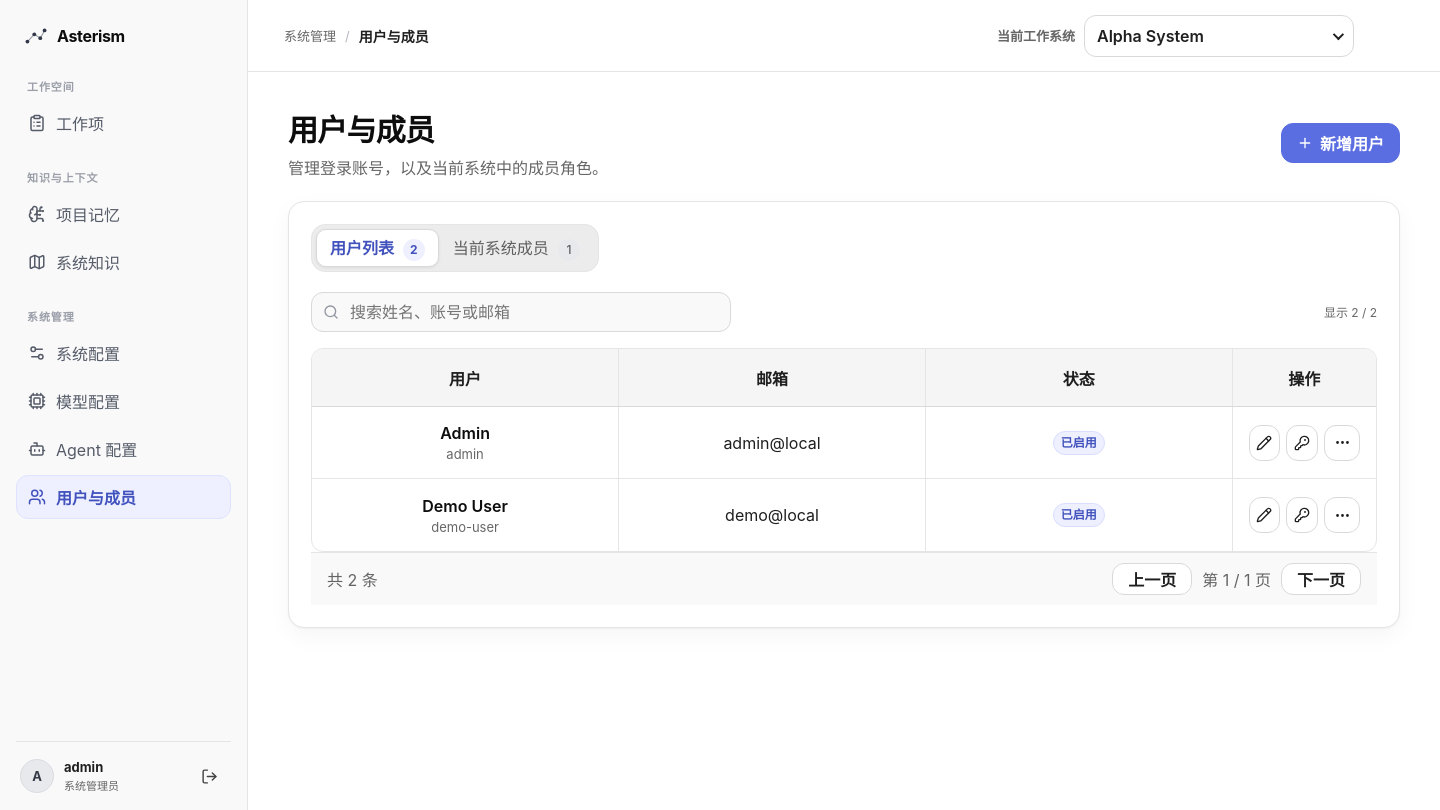
Test case: /users keeps the list first and opens 新增用户 in a dialog
The image size is (1440, 810).
Click the button "新增用户" at (1340, 143), box [1281,123,1400,163]
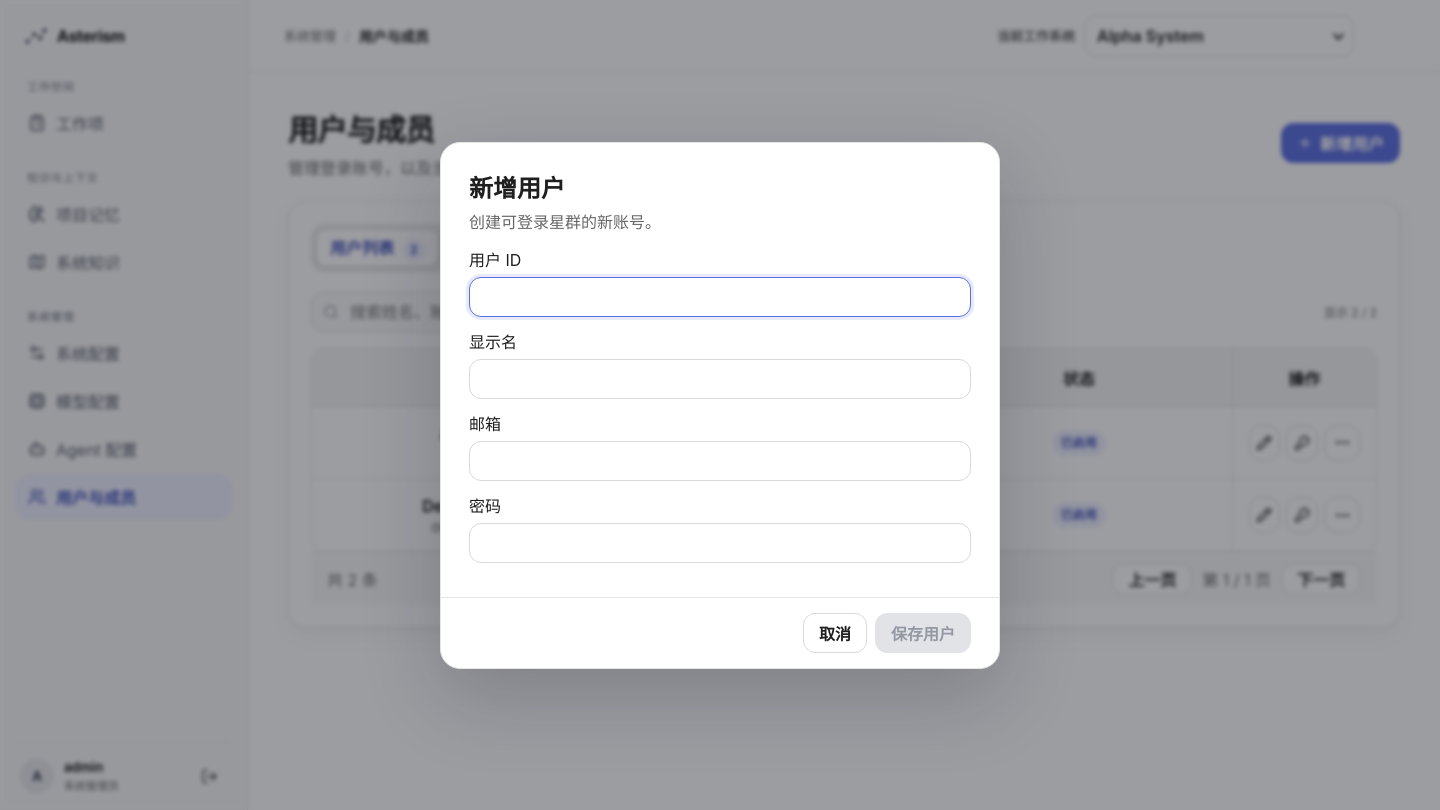
Check: the heading "新增用户" is shown, box [469,174,565,202]
